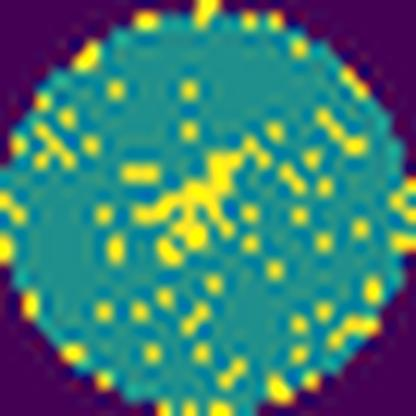Center: (130, 148, 258, 266)
